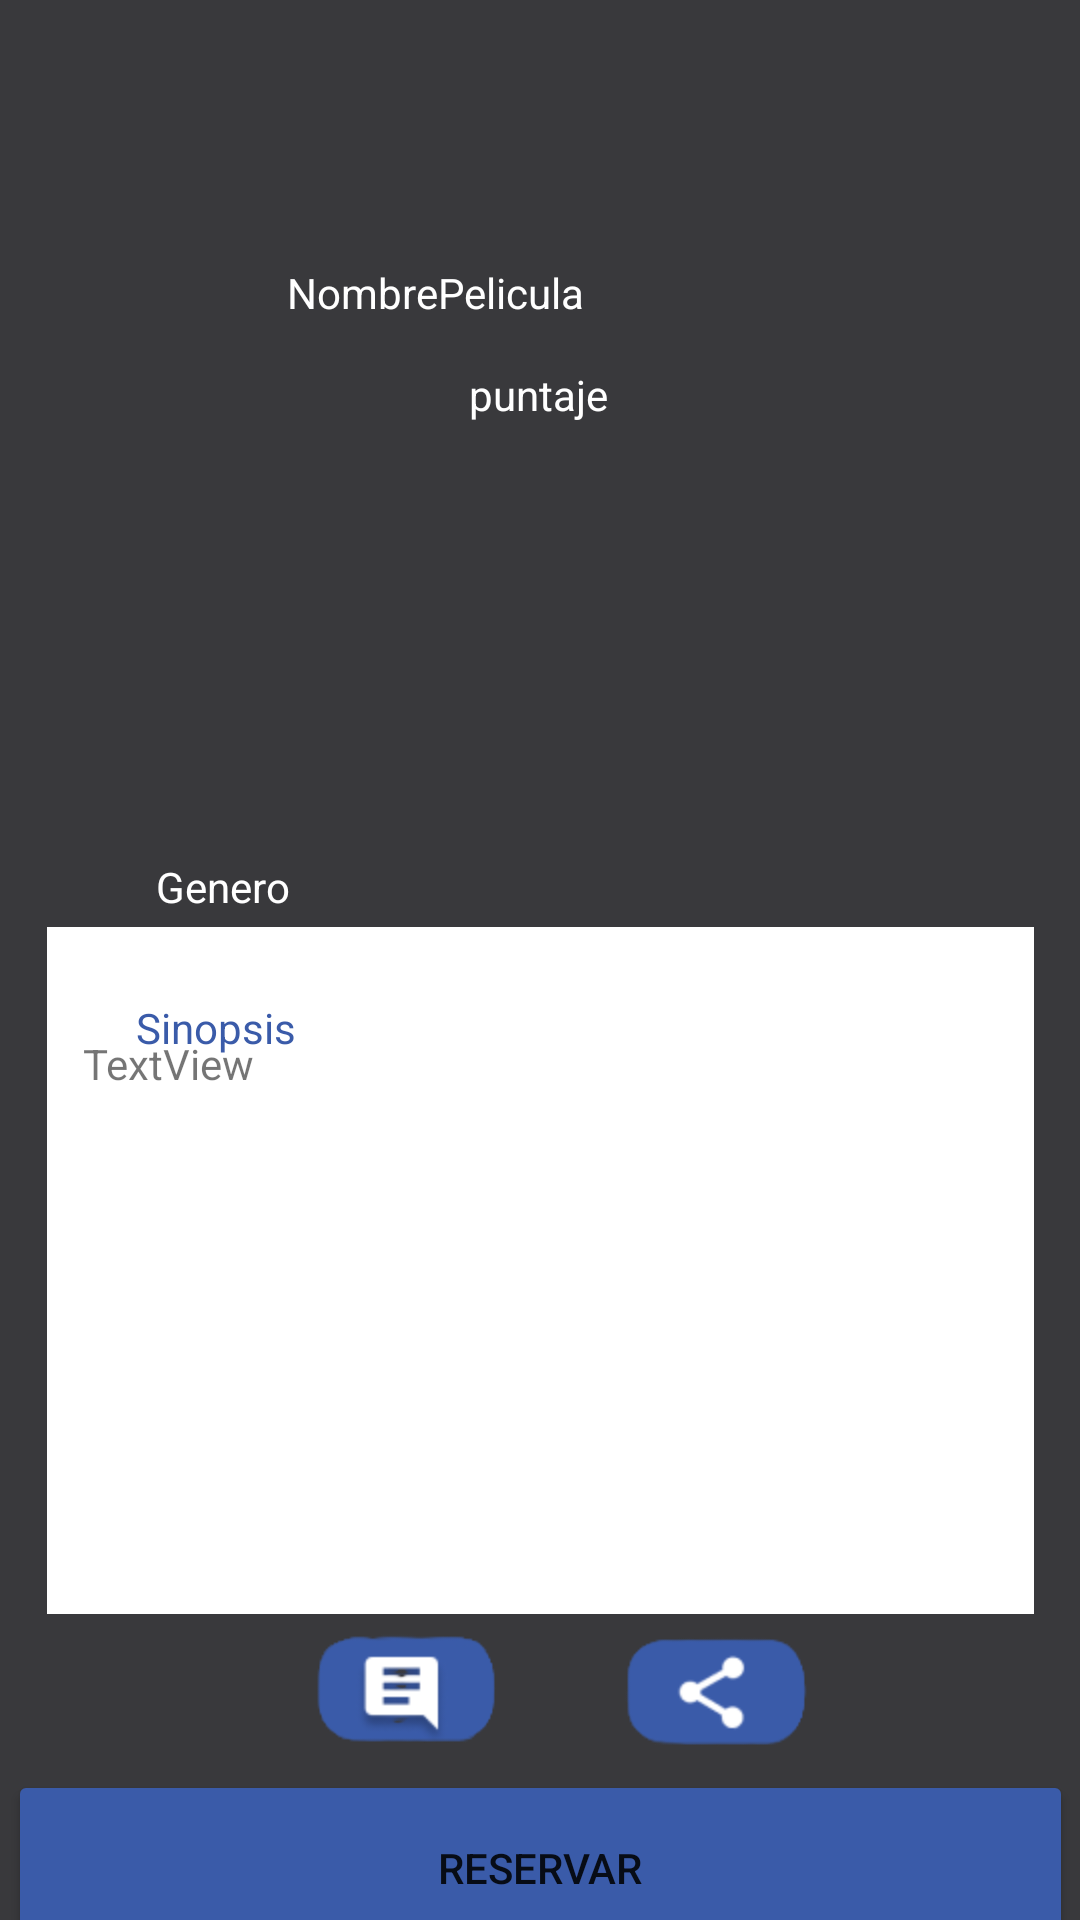

Where to tap for icons on this 1080w x 1920h app screen, as [x,y]:
comentar: [406,1689]
compartir: [716,1692]
